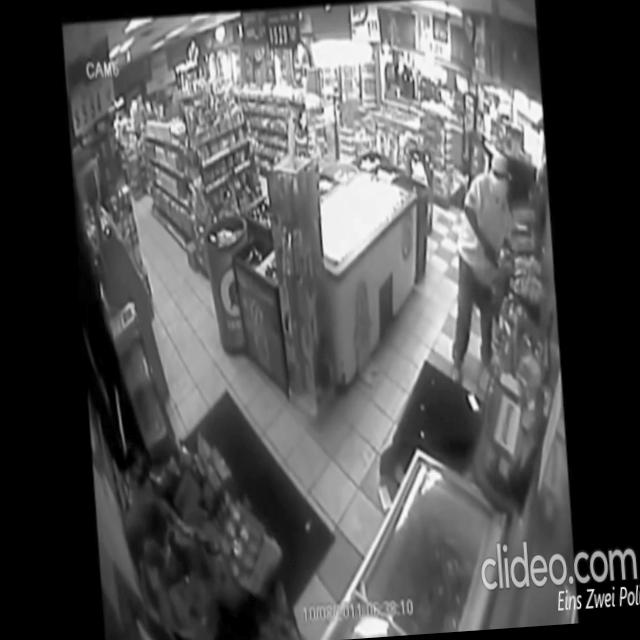gun: (489, 248, 502, 274)
person with a gun: (436, 151, 525, 382)
